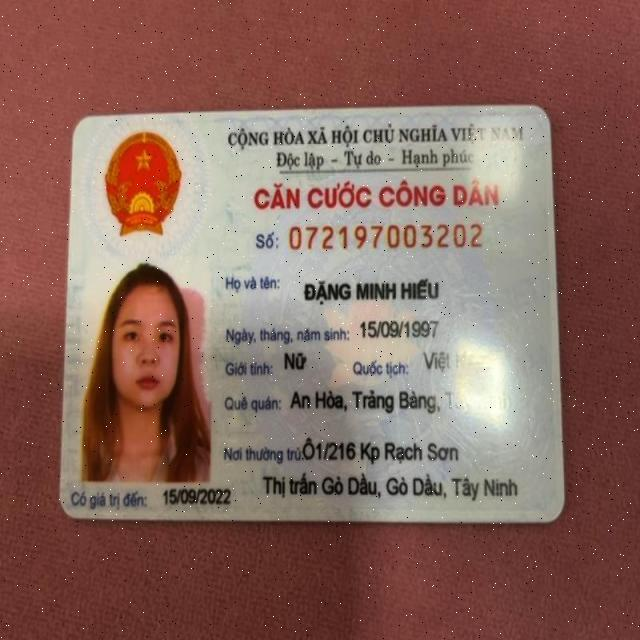current_place: (264, 468, 520, 500), (297, 435, 466, 463)
dob: (359, 313, 443, 343)
expire_date: (162, 483, 235, 510)
gender: (280, 349, 310, 374)
id: (288, 221, 488, 255)
name: (303, 278, 444, 305)
nationality: (420, 349, 493, 376)
origin_place: (286, 386, 514, 420)
